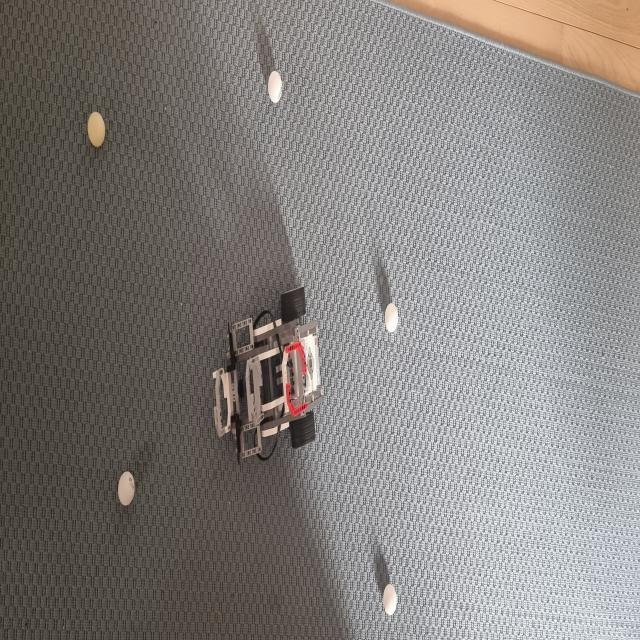robot: (212, 285, 323, 466)
white: (86, 111, 105, 148), (117, 472, 135, 506), (268, 70, 282, 104), (383, 583, 397, 615), (385, 302, 398, 334)
